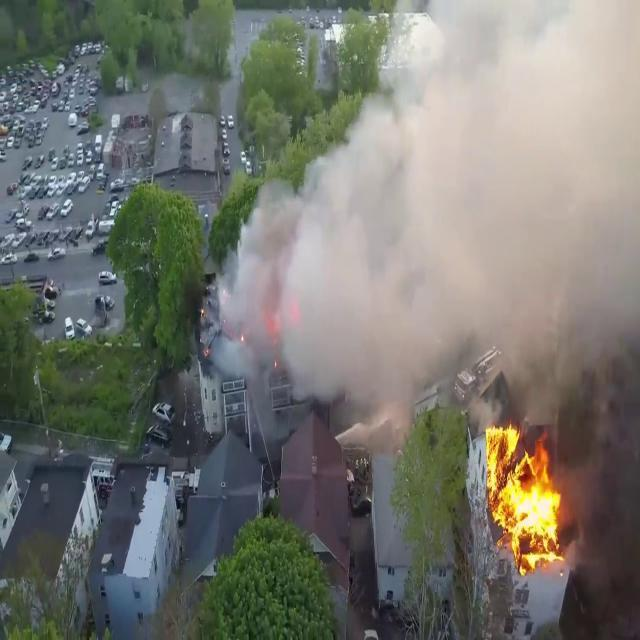Fire: (479, 410, 569, 570)
Smoke: (215, 0, 640, 421)
